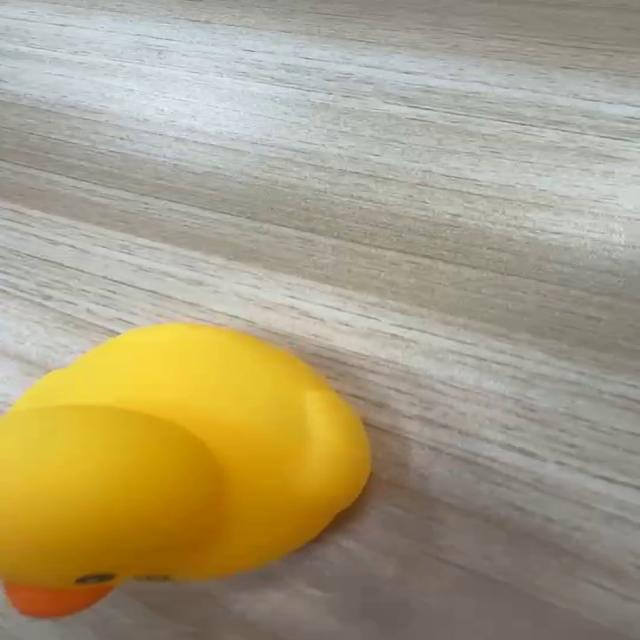yellow_duck: (0, 321, 372, 618)
